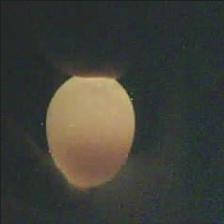infertile: (43, 73, 135, 189)
